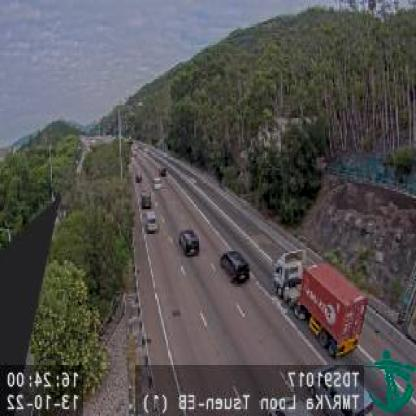Bus: (271, 248, 369, 357)
Car: (220, 249, 250, 283), (180, 230, 199, 255), (143, 210, 158, 232), (139, 190, 152, 208)
